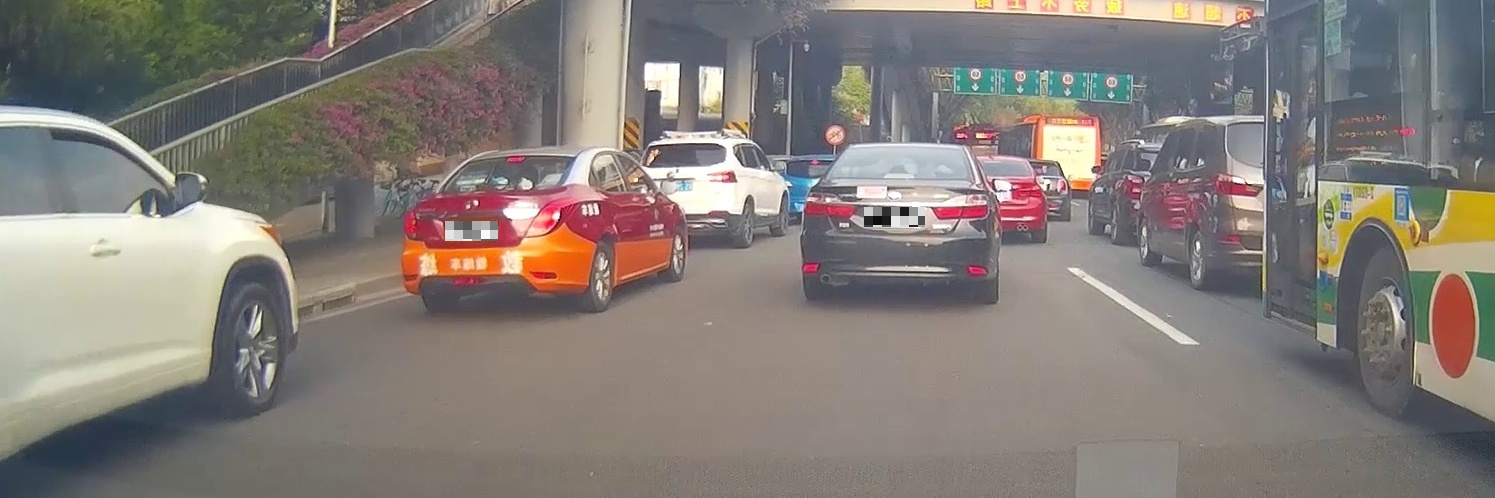L_light: (803, 191, 857, 218), (403, 208, 418, 240)
R_light: (525, 197, 578, 238), (931, 194, 990, 220)
T_light: (883, 172, 915, 179), (505, 156, 527, 164)
day-brake: (399, 147, 593, 312)
day-no: (799, 143, 996, 305)
plate_1: (445, 221, 498, 241)
plate_2: (864, 207, 925, 227)
